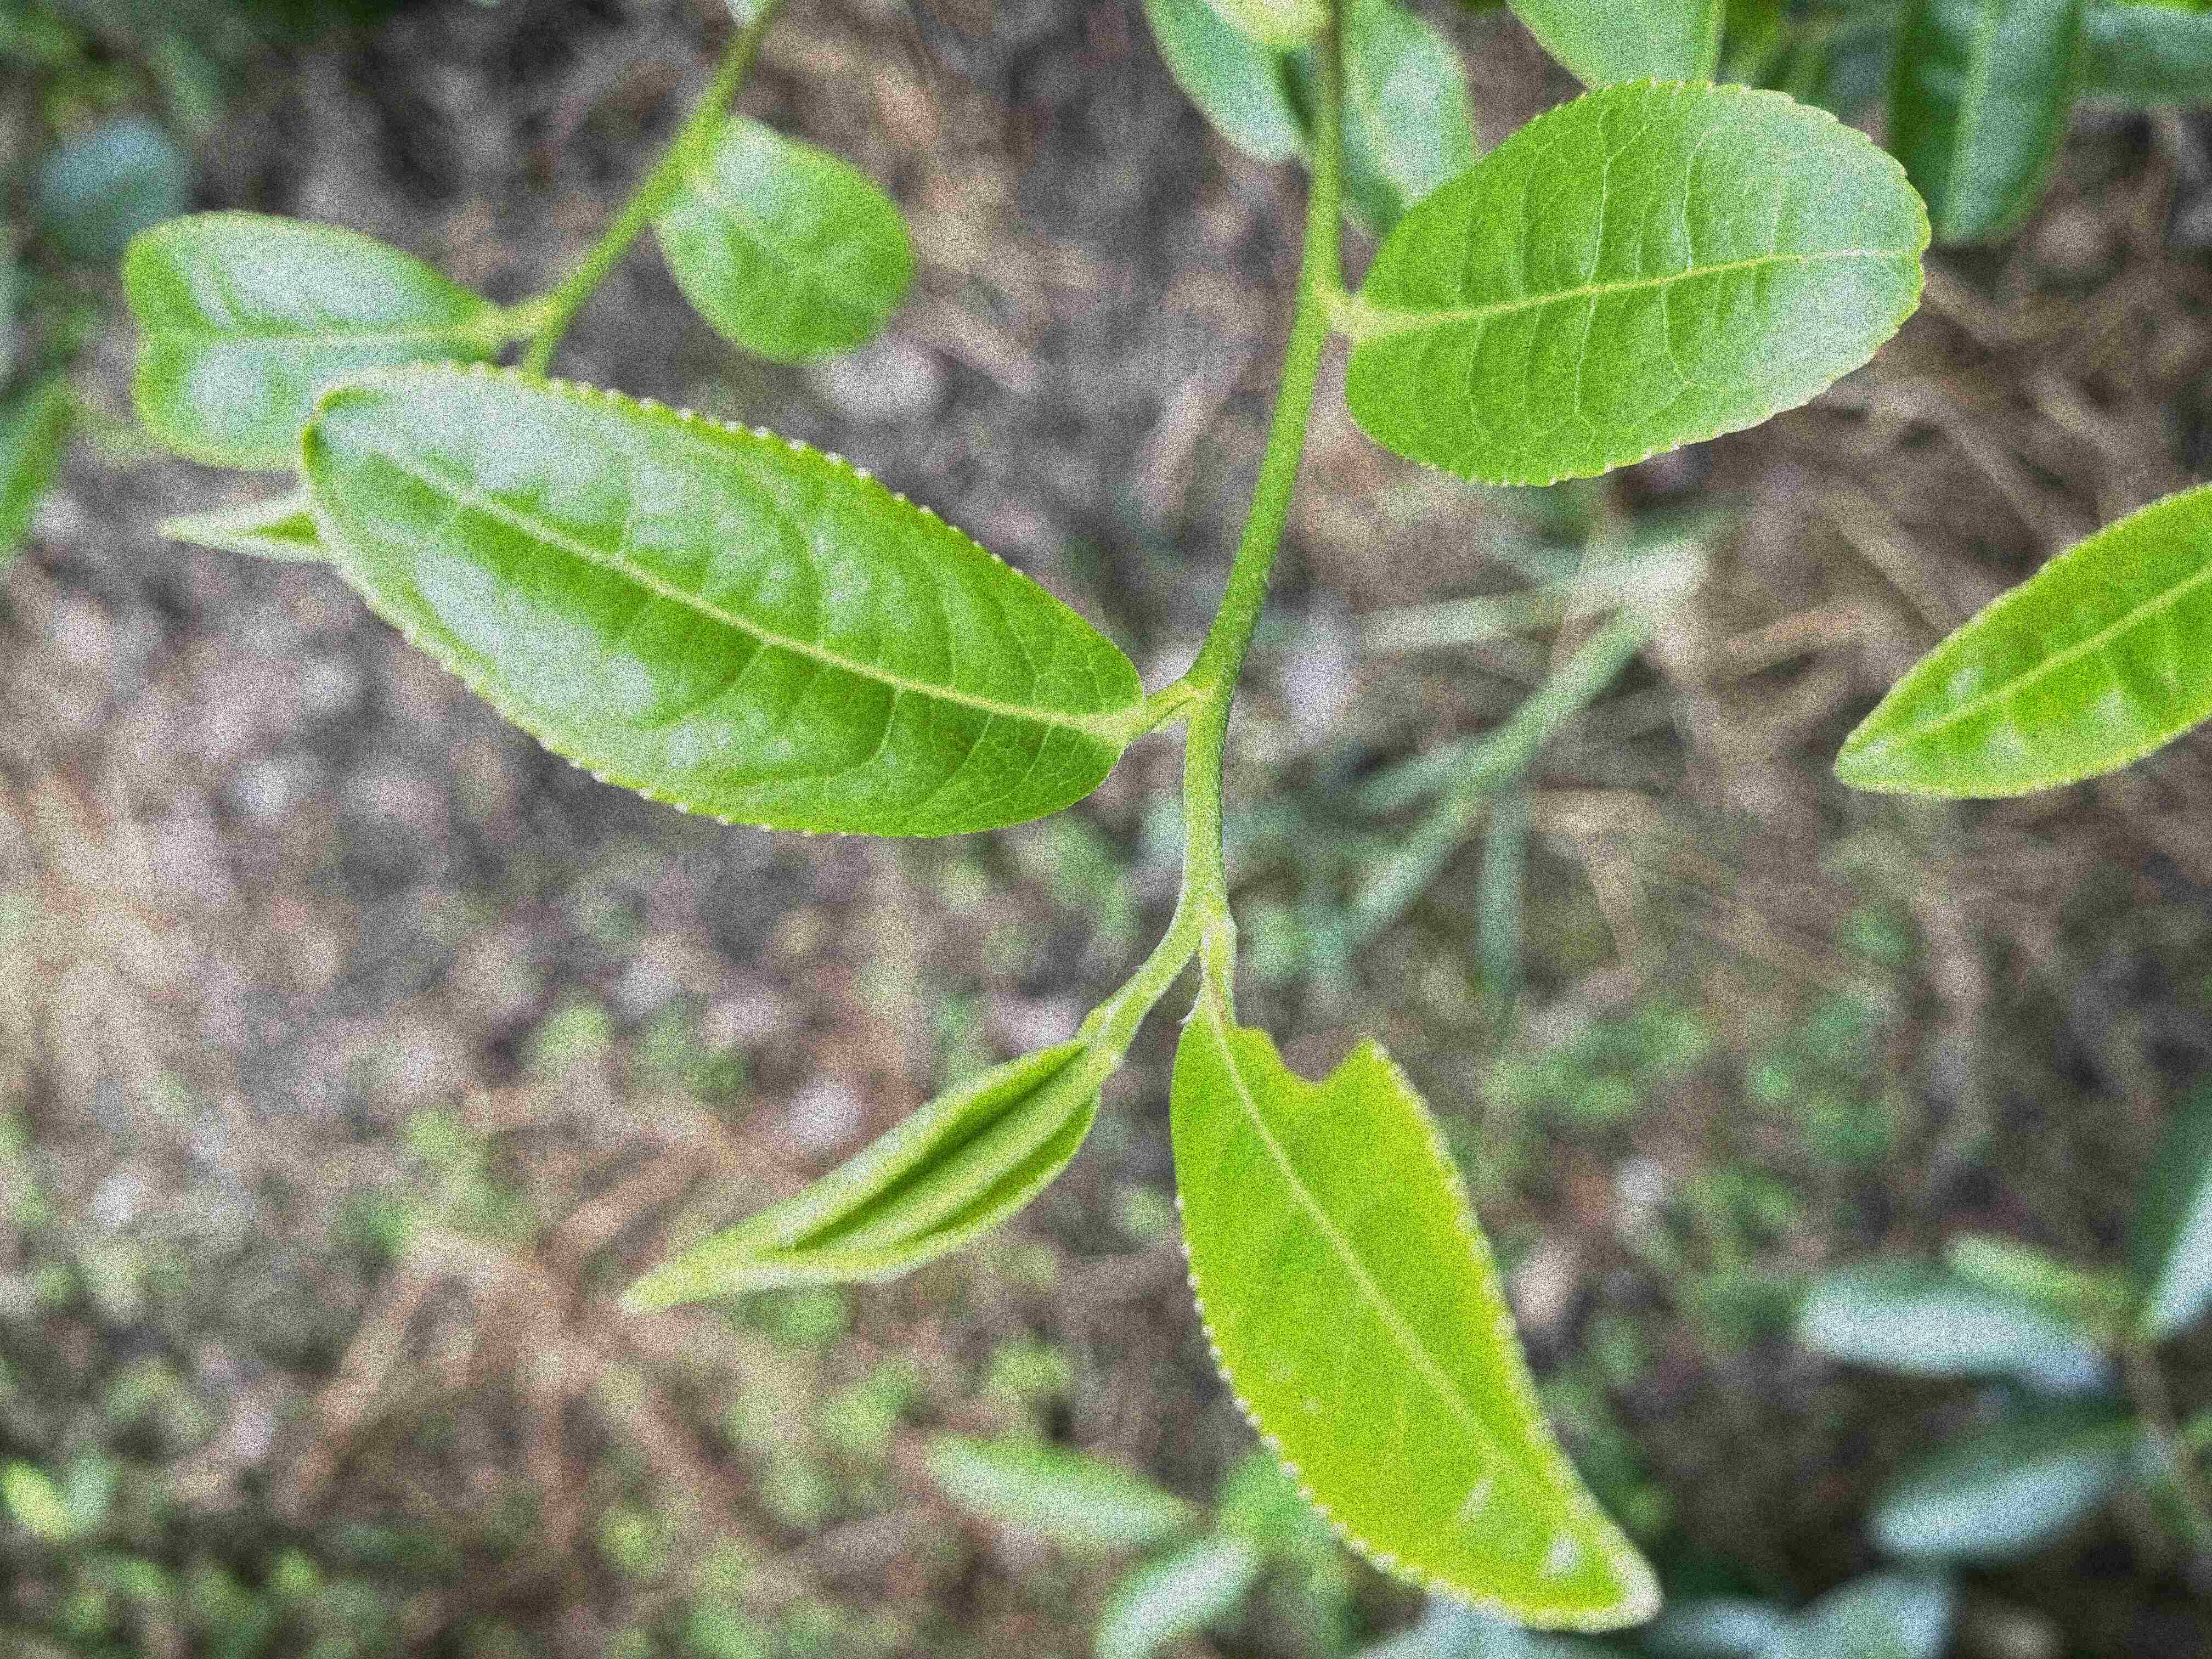chihuo_low: (1169, 988, 1663, 1629)
healthy: (294, 356, 1148, 842), (1345, 77, 1935, 497), (1831, 483, 2210, 803)
